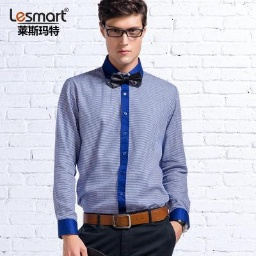face: (96, 1, 149, 68)
